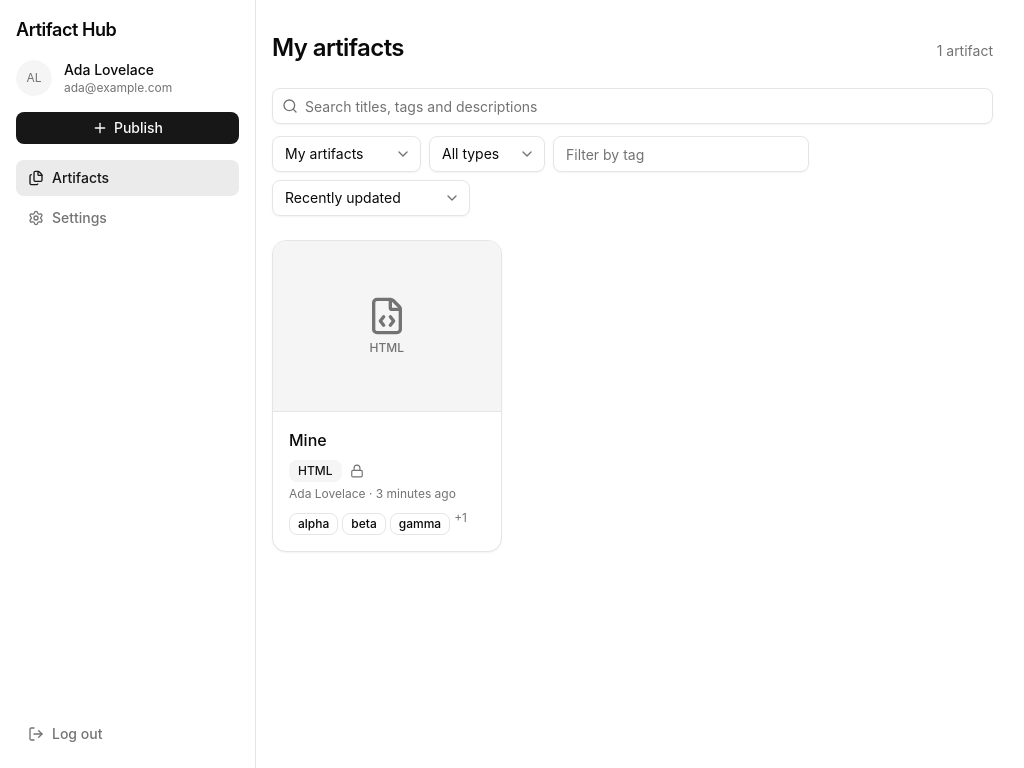
Test: gallery › lists what colleagues shared with me by name
Select "Shared with me" in the dropdown named "Show" at [346, 154], box [272,136,421,172]
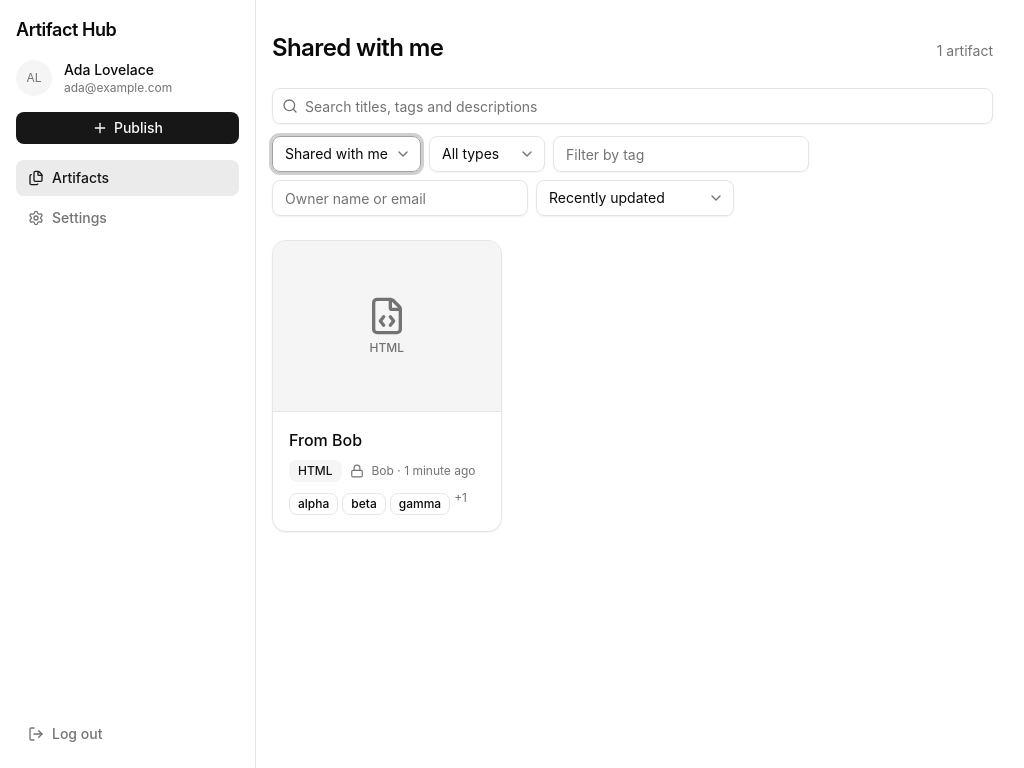
expect the text "1 artifact" is shown: met, box [937,41,993,61]
expect the headings read "From Bob", in this order: met, box [289,430,362,450]
